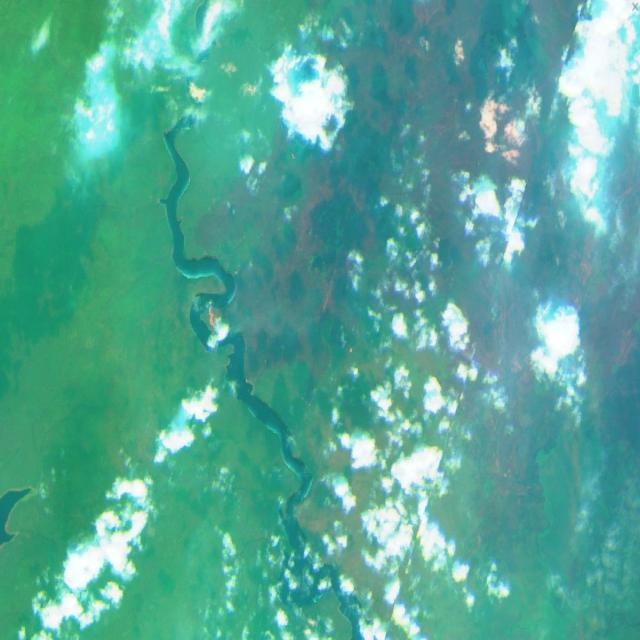fire: (200, 295, 234, 339)
